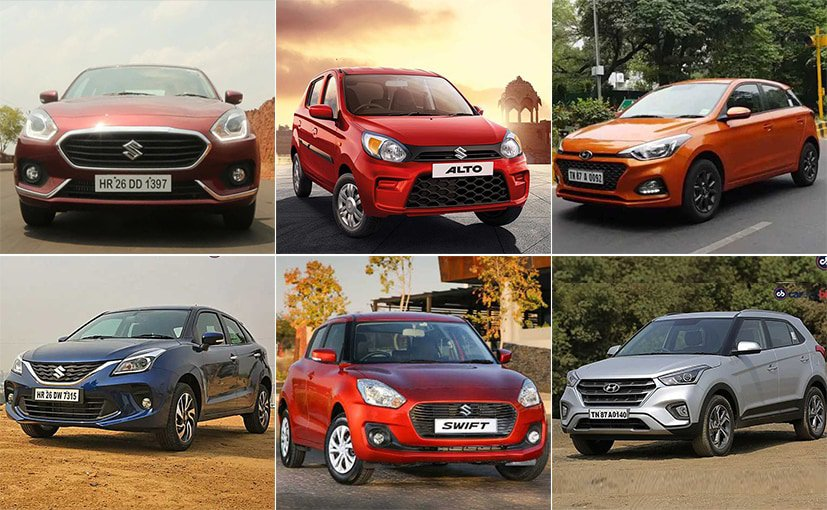car: (282, 312, 554, 487), (6, 298, 267, 459), (13, 60, 261, 228), (554, 72, 822, 226), (295, 60, 533, 232), (563, 308, 823, 455)
